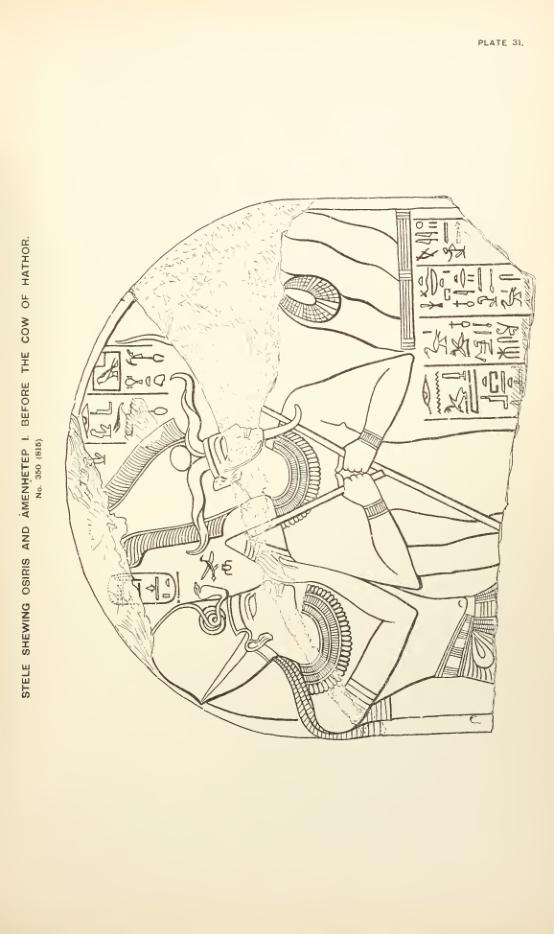circle: (102, 569, 186, 608)
